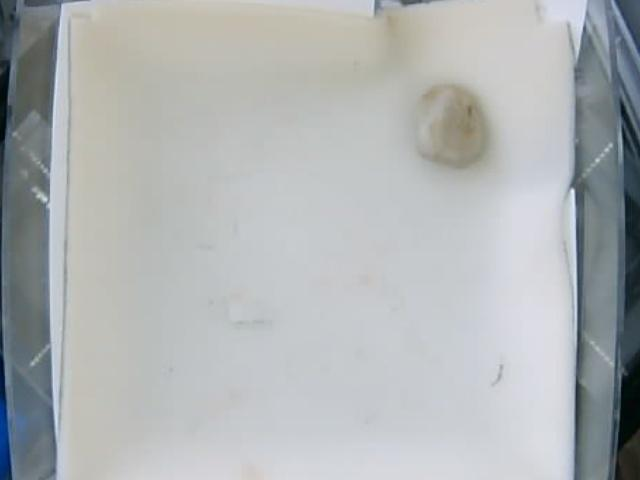Pebble: (414, 83, 488, 163)
